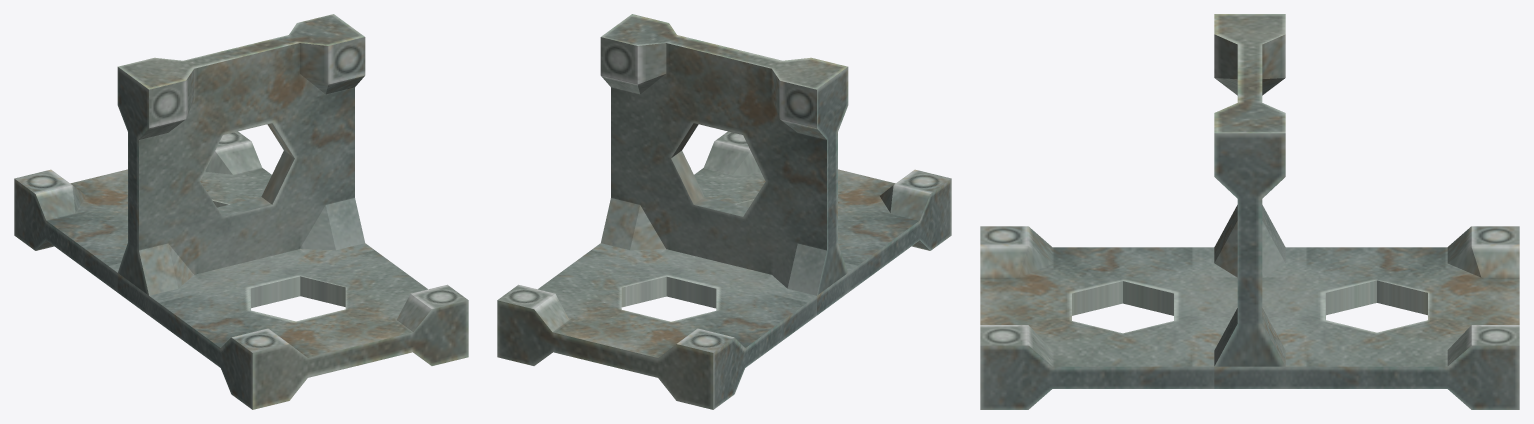
File: Girder_Junction_3way.FBX
3 views of the same model, side by side, from view 1: azimuth 30°, elevation 25°; view 2: azimuth 150°, elevation 25°; view 3: azimuth 270°, elevation 25° (orthographic). The views are drawn at different scales.
Parts seen in each view (by area): view 1: Girder_Junction_3way; view 2: Girder_Junction_3way; view 3: Girder_Junction_3way.
Boxes of the visible parts, <box> form: Girder_Junction_3way: <box>14,14,468,409</box>; Girder_Junction_3way: <box>497,14,951,409</box>; Girder_Junction_3way: <box>980,14,1519,409</box>.
Bounding box in the file's own units: 100 × 108 × 191.
